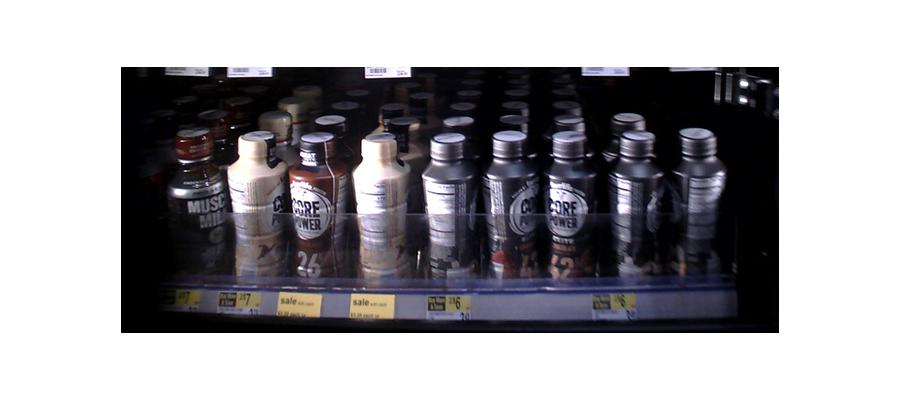bottle: (167, 127, 227, 282), (355, 126, 412, 284), (483, 129, 540, 284), (611, 123, 663, 288), (673, 119, 724, 285), (291, 129, 347, 280), (230, 131, 286, 281), (424, 131, 478, 284), (547, 126, 599, 283)
